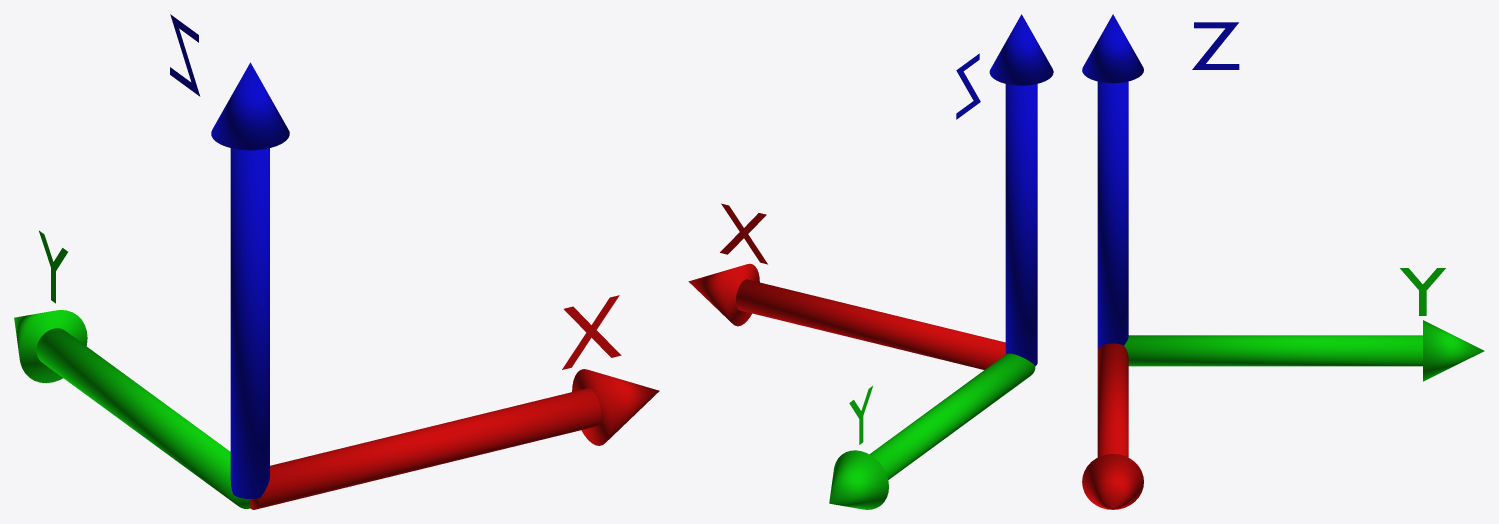
File: AxisArrow.obj
3 renders of one model, left to right at view 1: azimuth 30°, elevation 25°; view 2: azimuth 150°, elevation 25°; view 3: azimuth 270°, elevation 25°, orthographic. The views are drawn at different scales.
Visible parts, largest first — view 1: Cylinder, Text_CUText.001, Text.004_CUText.009; view 2: Cylinder, Text_CUText.001, Text.004_CUText.009; view 3: Cylinder, Text.004_CUText.009, Text.002_CUText.005.
Part boxes in pixels (x1,y1,x2,y2): Cylinder: (14, 62, 659, 509); Text_CUText.001: (562, 295, 621, 369); Text.004_CUText.009: (170, 14, 200, 96); Cylinder: (688, 14, 1053, 509); Text_CUText.001: (720, 203, 767, 264); Text.004_CUText.009: (956, 53, 980, 119); Cylinder: (1082, 14, 1484, 509); Text.004_CUText.009: (1192, 22, 1239, 69); Text.002_CUText.005: (1400, 268, 1445, 315).
Size of the model in its own units: 2.6 by 2.6 by 2.6.
